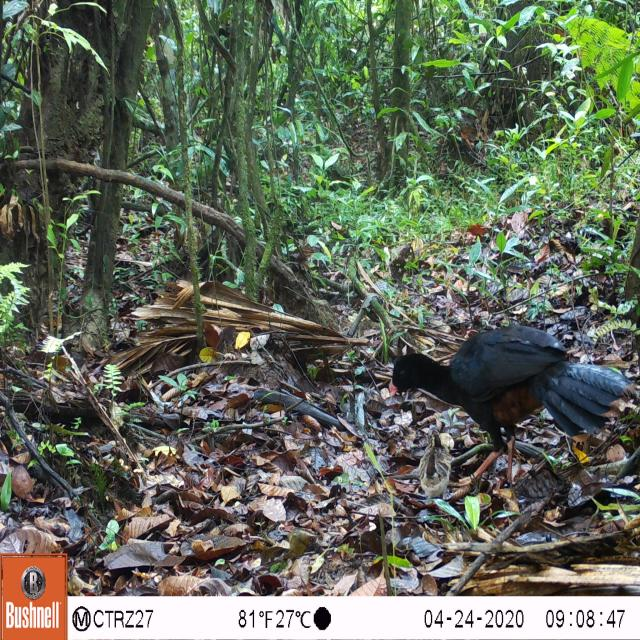Salvins Curassow: (377, 308, 634, 500)
